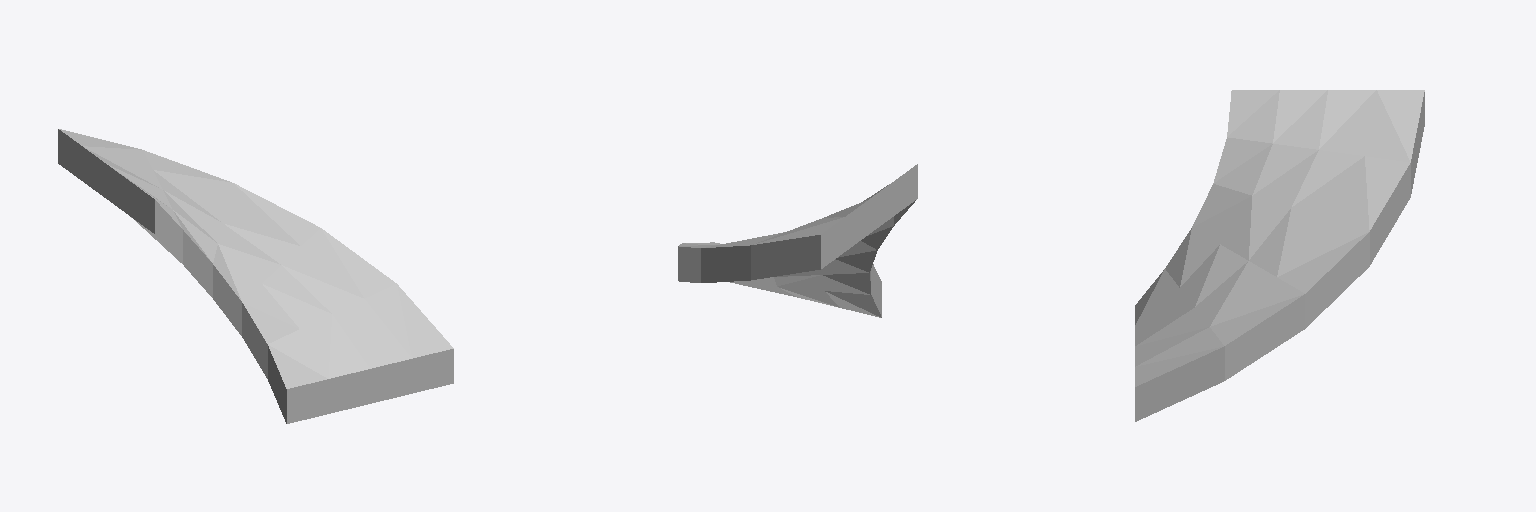
File: struct_large_curved_ramp.obj
The picture shows the model from 3 angles: view 1: azimuth 30°, elevation 25°; view 2: azimuth 150°, elevation 25°; view 3: azimuth 270°, elevation 25°; orthographic projection.
Visible parts, largest first — view 1: struct_large_curved_ramp; view 2: struct_large_curved_ramp; view 3: struct_large_curved_ramp.
Boxes of the visible parts, x1=… form: struct_large_curved_ramp: x1=58, y1=129, x2=453, y2=423; struct_large_curved_ramp: x1=678, y1=164, x2=917, y2=317; struct_large_curved_ramp: x1=1135, y1=90, x2=1424, y2=421.
Bounding box in the file's own units: 1.5 × 1.2 × 1.5.